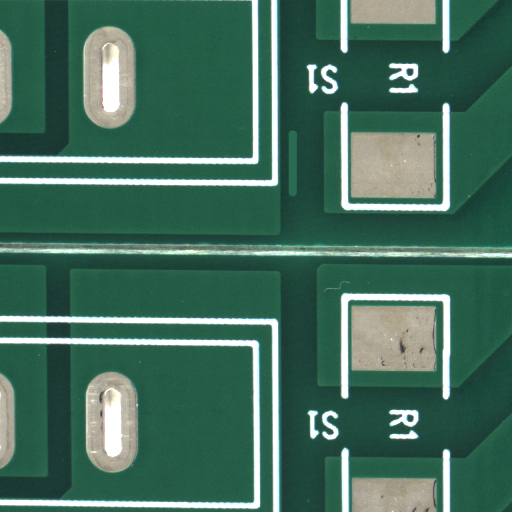Spurious_copper: (293, 162, 309, 232)
